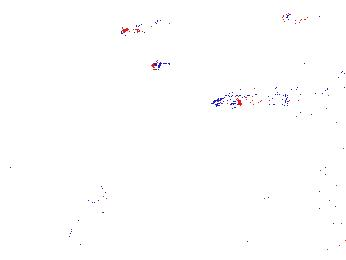X-ray fish: (122, 175, 160, 210)
glassfish: (68, 169, 121, 260), (211, 85, 309, 114)
red belly glassfish: (115, 16, 169, 37), (283, 7, 329, 27), (147, 56, 168, 73)
